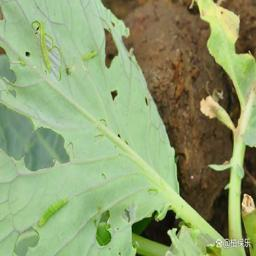Tobacco_budworm: (31, 19, 52, 72), (37, 198, 68, 226)
